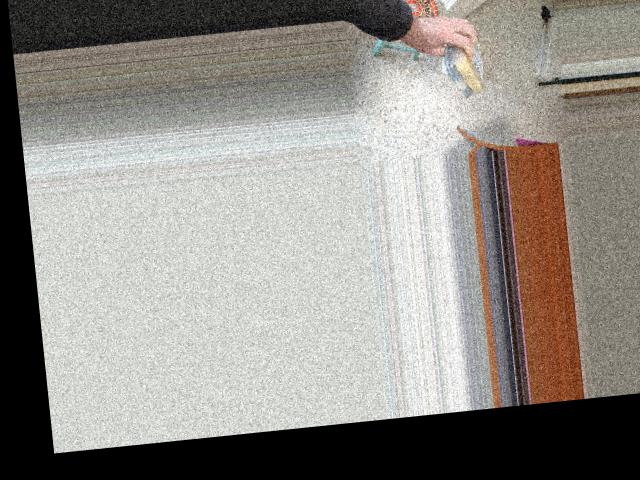cheese: (447, 30, 487, 99)
